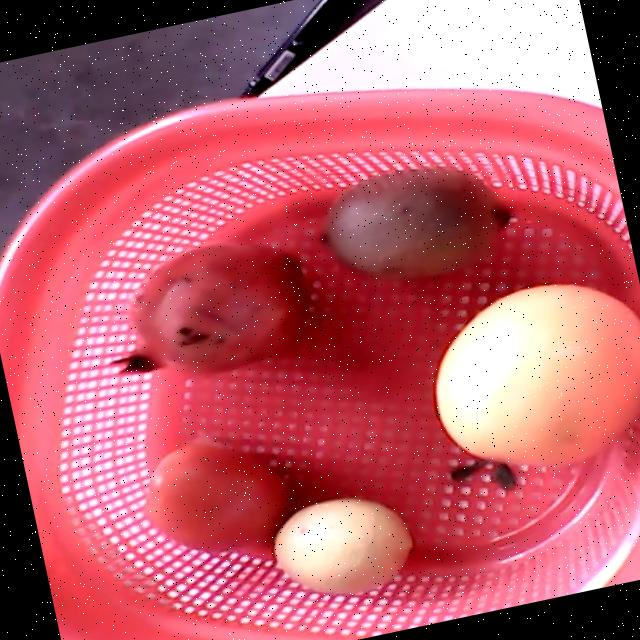kiwi: (319, 169, 510, 280)
lemon: (276, 498, 412, 593)
orange: (437, 283, 640, 488)
pomegranate: (111, 239, 309, 376)
tomato: (143, 446, 290, 549)
